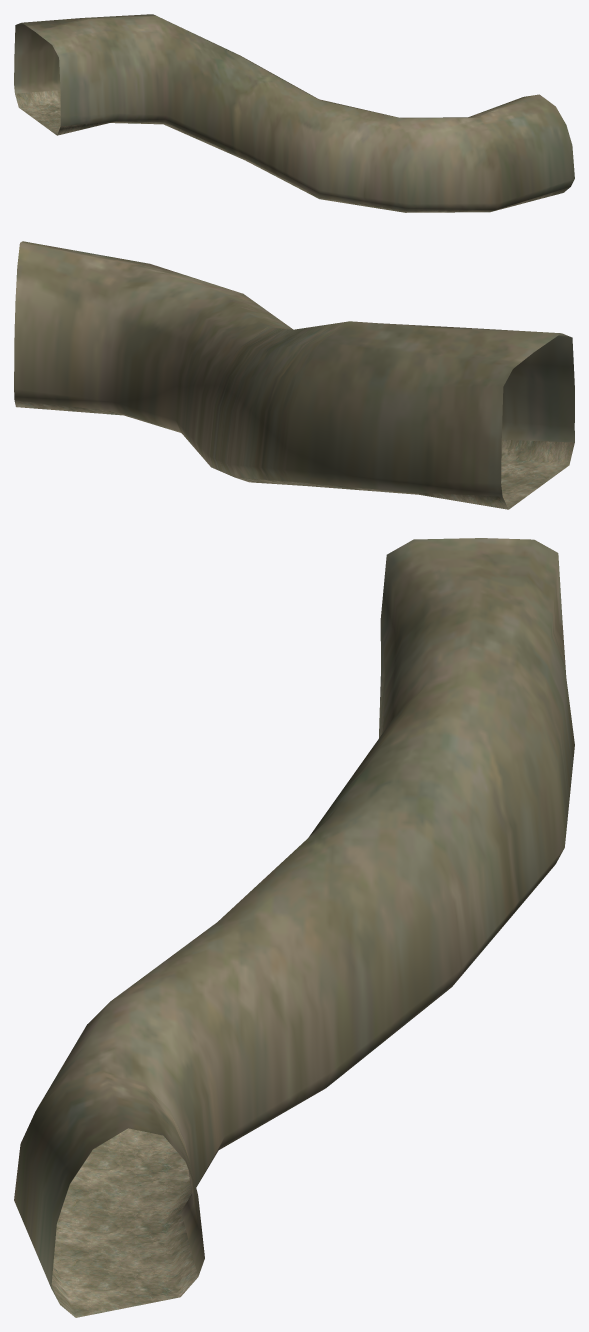
The model's file is OVERHILL_A_01_CM_TUNNEL_01.fbx.
3 renders of one model, top to bottom at view 1: azimuth 30°, elevation 25°; view 2: azimuth 150°, elevation 25°; view 3: azimuth 270°, elevation 25°, orthographic. The views are drawn at different scales.
Parts seen in each view (by area): view 1: OVERHILL_A_01_CM_TUNNEL_01; view 2: OVERHILL_A_01_CM_TUNNEL_01; view 3: OVERHILL_A_01_CM_TUNNEL_01.
Boxes of the visible parts, left/top/right/bottom form: OVERHILL_A_01_CM_TUNNEL_01: left=14, top=14, right=574, bottom=212; OVERHILL_A_01_CM_TUNNEL_01: left=14, top=241, right=574, bottom=509; OVERHILL_A_01_CM_TUNNEL_01: left=14, top=538, right=574, bottom=1317.
Bounding box in the file's own units: 162606 × 68348 × 93403.
Materials: 1 (1 with a texture image).
